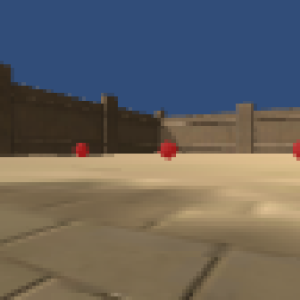badGoal: (154, 140, 180, 163), (71, 137, 92, 158), (290, 138, 300, 163)
